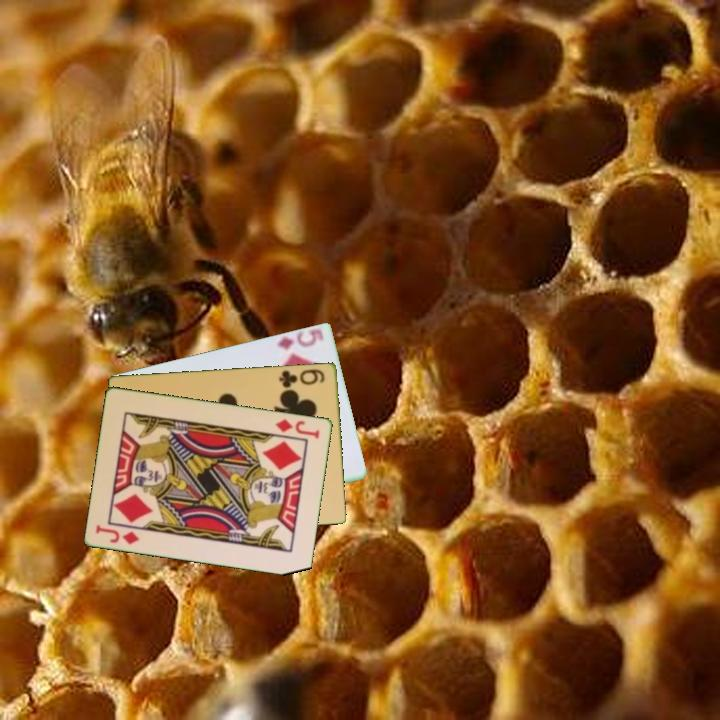5d: (273, 328, 325, 353)
6c: (276, 365, 328, 390)
Jd: (272, 415, 323, 441), (92, 521, 143, 547)
